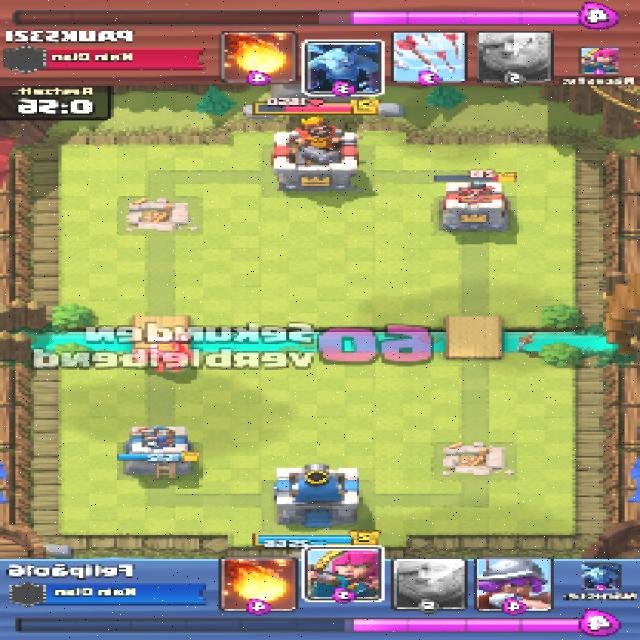Enemy-Knight: (140, 342, 190, 373)
